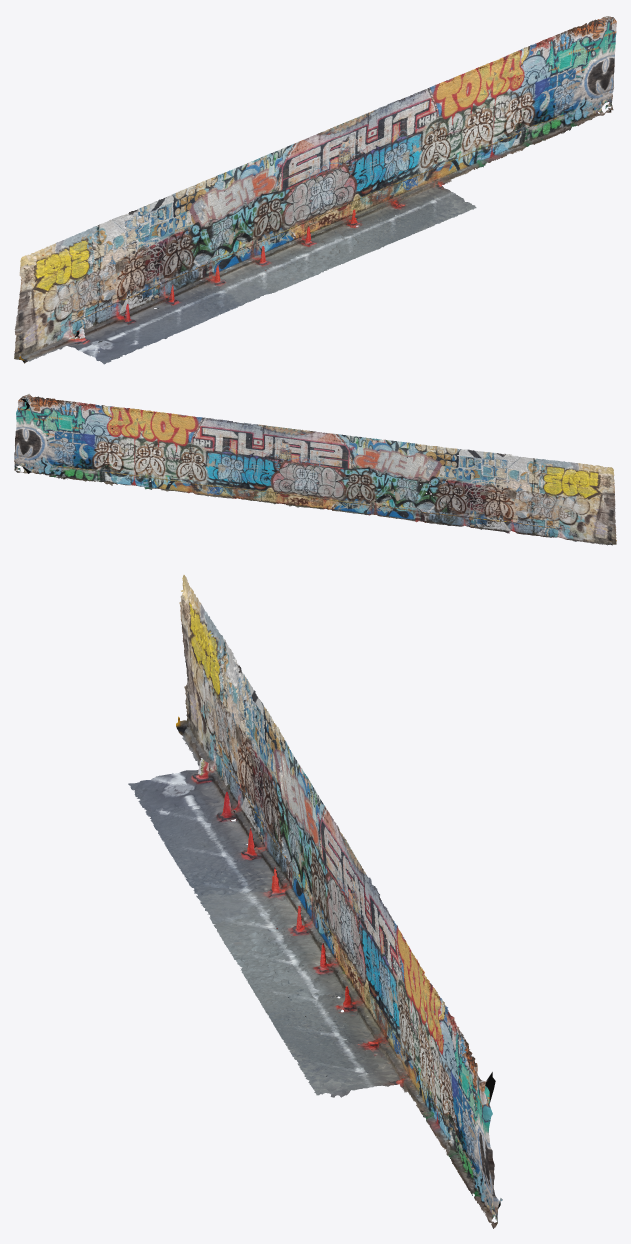
3 views of the same model, one above another, from view 1: azimuth 30°, elevation 25°; view 2: azimuth 150°, elevation 25°; view 3: azimuth 270°, elevation 25° (orthographic). The views are drawn at different scales.
Parts seen in each view (by area): view 1: texturedMesh; view 2: texturedMesh; view 3: texturedMesh.
Boxes of the visible parts, x1=… form: texturedMesh: x1=14, y1=16, x2=616, y2=364; texturedMesh: x1=14, y1=393, x2=616, y2=545; texturedMesh: x1=128, y1=575, x2=502, y2=1228.
Size of the model in its own units: 18.97 by 2.94 by 5.87.
5 materials, 5 textured.
